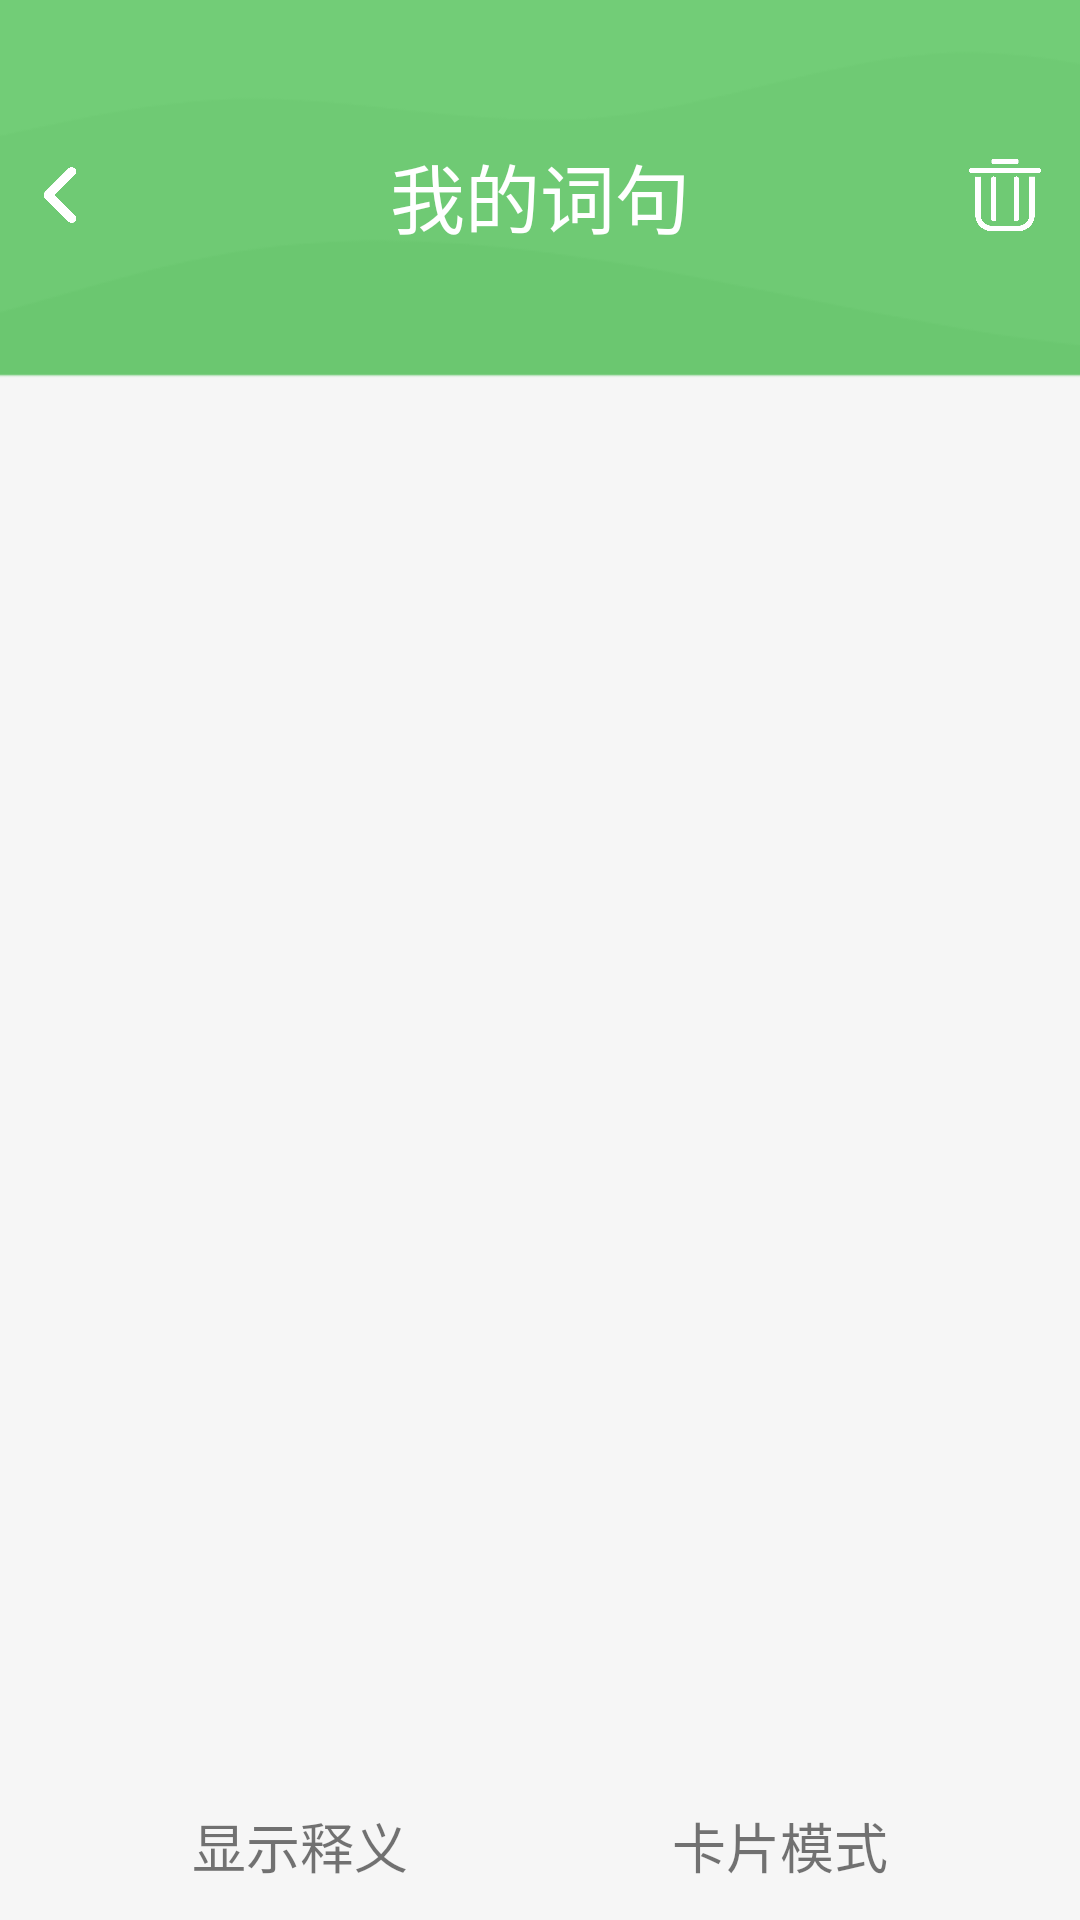

Icons on this 1080*1920 Android screen, each with the point to tap as (x=x, y=y):
back: (x=60, y=195)
del: (x=1005, y=195)
